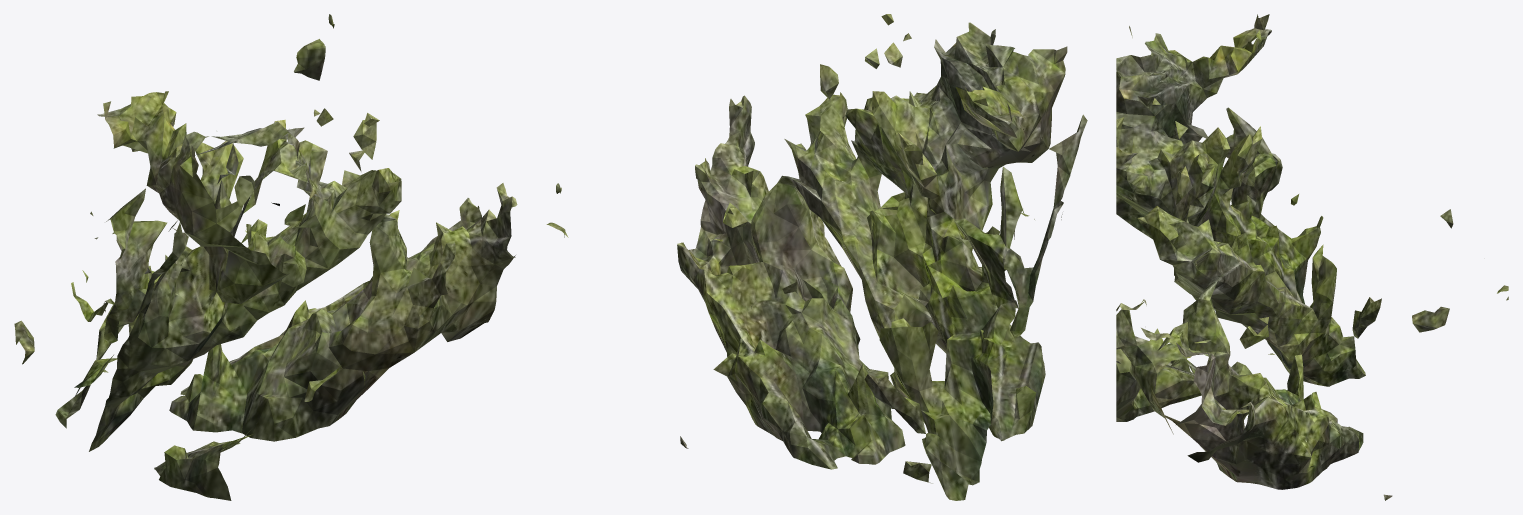
3 renders of one model, left to right at view 1: azimuth 30°, elevation 25°; view 2: azimuth 150°, elevation 25°; view 3: azimuth 270°, elevation 25°, orthographic.
Bounding box in the file's own units: 5.9 × 5.9 × 5.9.
6 materials, 6 textured.
